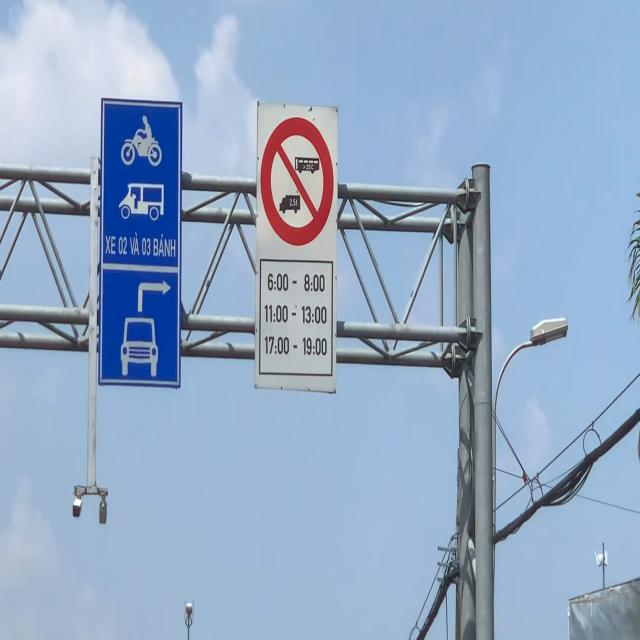Cam con lai: (257, 116, 335, 251)
